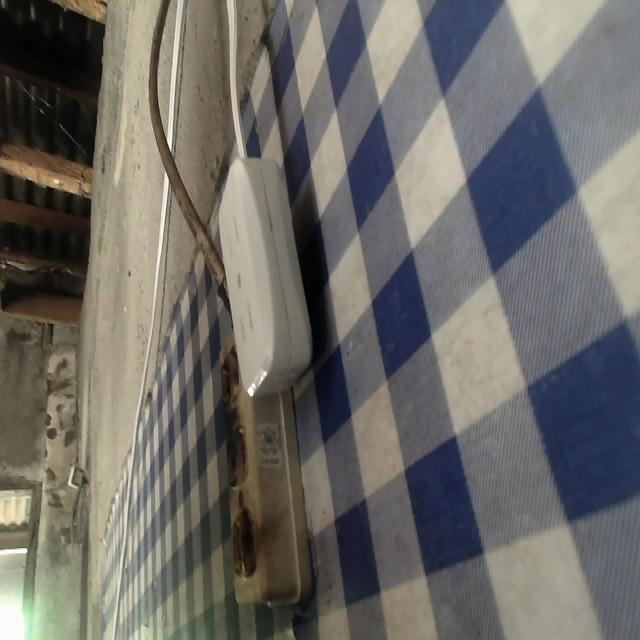-: (223, 509, 262, 574), (215, 423, 255, 484), (214, 341, 244, 399)
